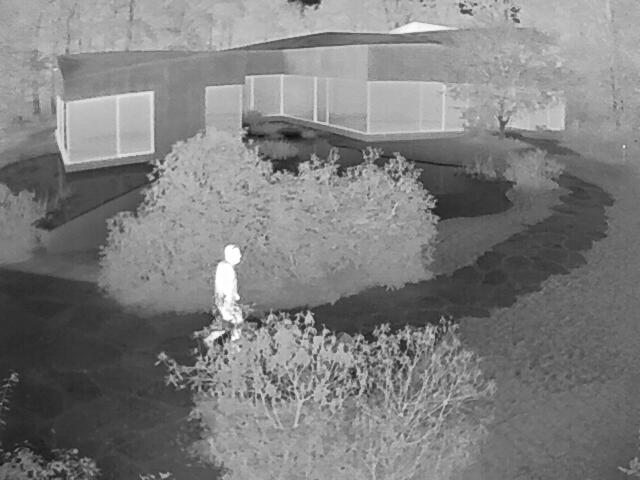person: (205, 244, 243, 353)
